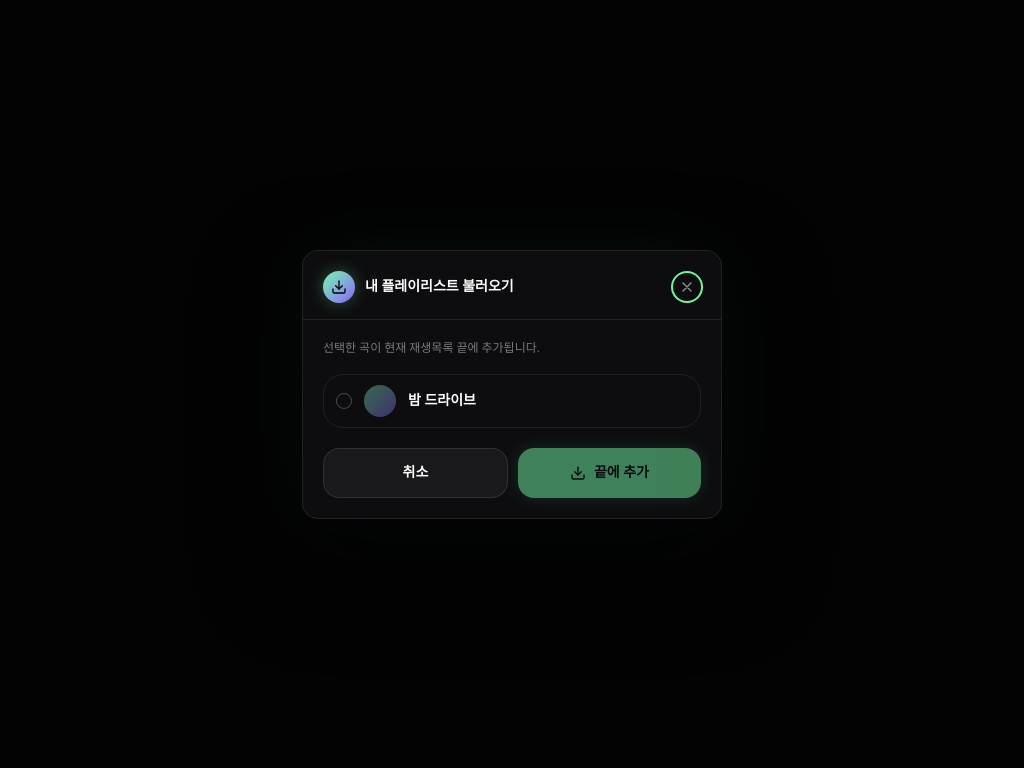
ImportToRoomDialog › 플레이리스트를 선택하면 "끝에 추가"가 활성화된다
The image size is (1024, 768).
Click the button "밤 드라이브": (380, 400) [323,374,701,428]
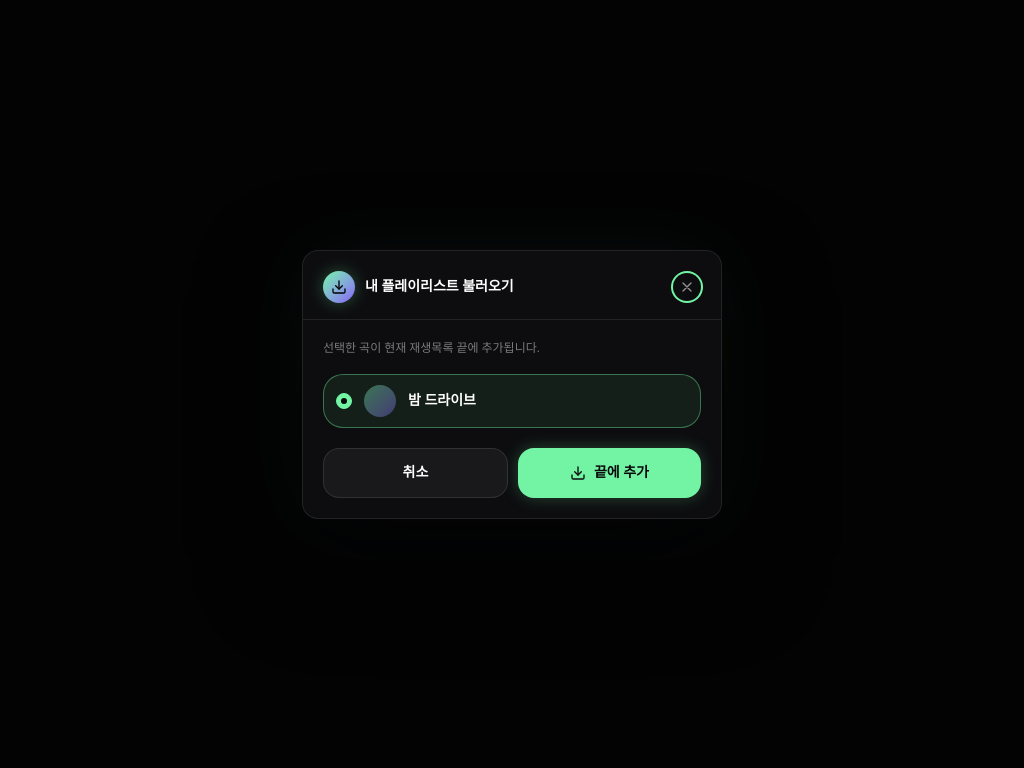
Expected: the button "끝에 추가" is enabled, [518,448,701,498]
